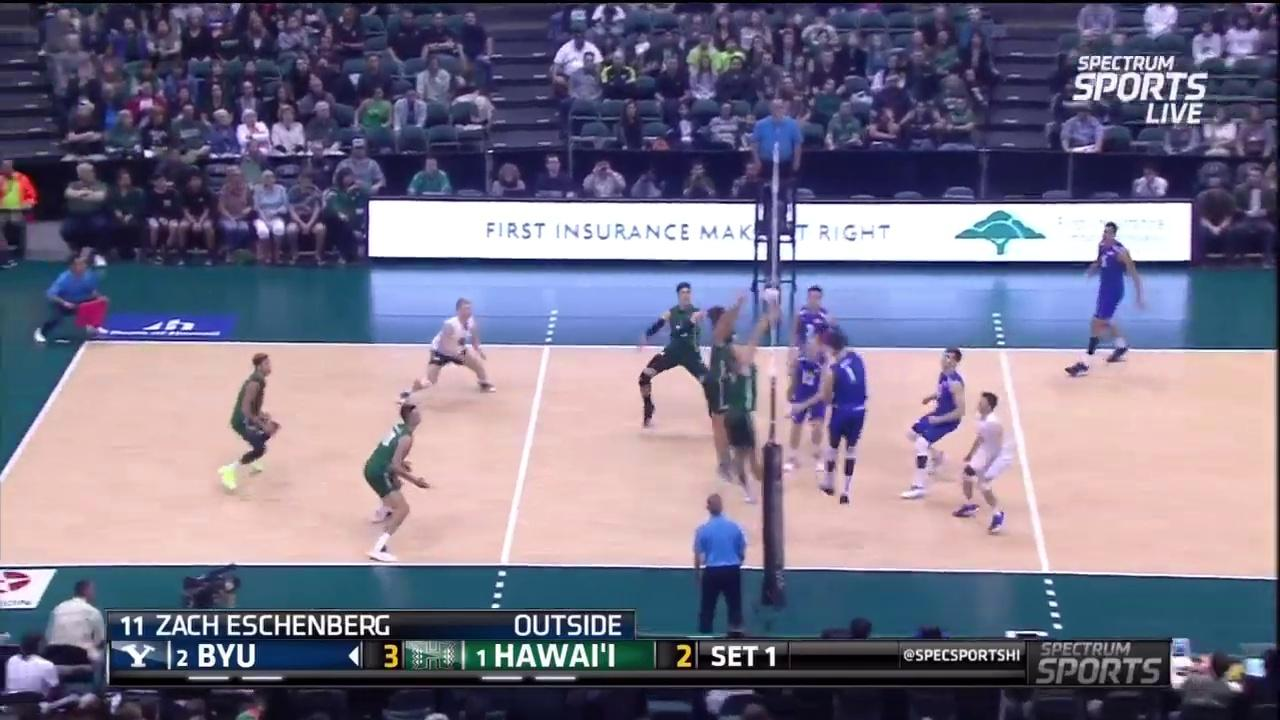player: (639, 278, 723, 427), (901, 351, 970, 506), (1074, 223, 1145, 367), (363, 401, 427, 559), (721, 335, 776, 502), (405, 300, 496, 393), (702, 298, 749, 476), (819, 331, 866, 509), (219, 353, 279, 489), (962, 391, 1017, 533), (794, 279, 837, 436), (786, 334, 826, 478)
refree: (686, 489, 748, 636), (36, 248, 111, 341), (754, 96, 804, 234)
